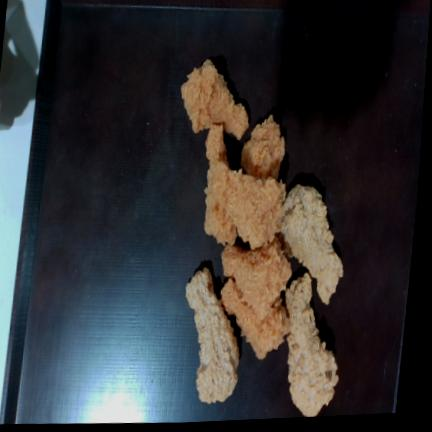chicken: (285, 273, 338, 417), (281, 184, 343, 304), (186, 268, 239, 403), (212, 163, 286, 248), (221, 237, 291, 317), (222, 279, 289, 359), (182, 60, 248, 139), (241, 115, 285, 179)
